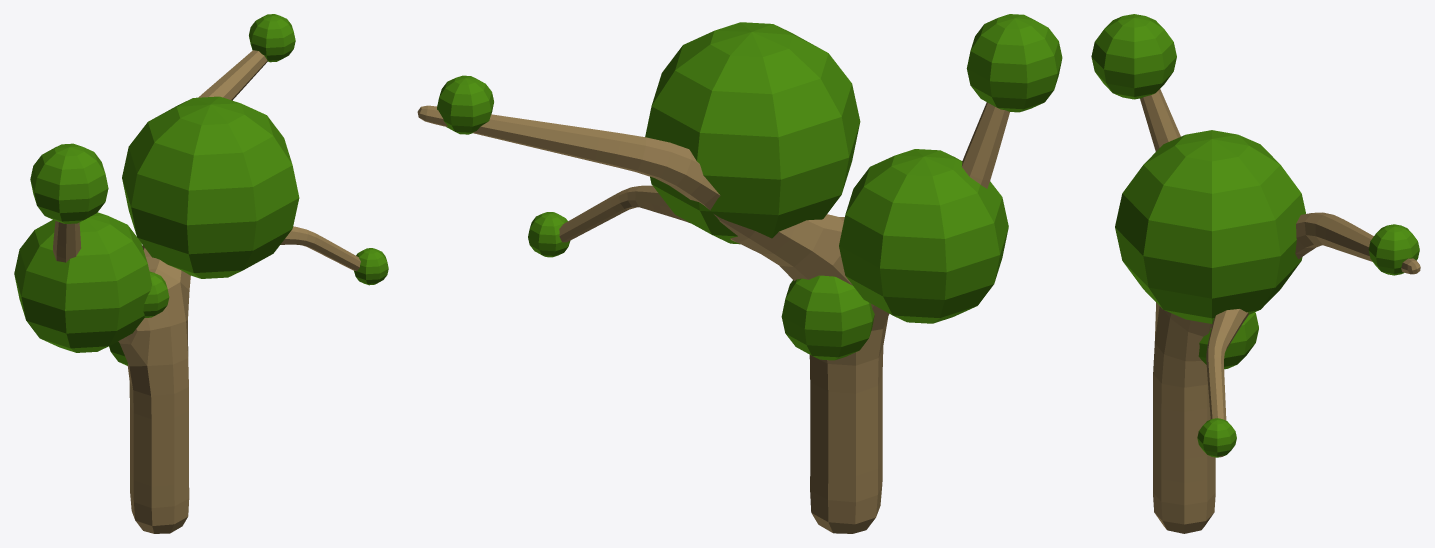
Rendered from TreeBasic1.glb.
The picture shows the model from 3 angles, left to right: view 1: azimuth 30°, elevation 25°; view 2: azimuth 150°, elevation 25°; view 3: azimuth 270°, elevation 25°; orthographic projection. The views are drawn at different scales.
Parts seen in each view (by area): view 1: Leaves.005_Arbuste, Trunk_Arbuste, Leaves.006_Arbuste, Leaves.001_Arbuste, Leaves_Arbuste, Leaves.002_Arbuste, Leaves.003_Arbuste; view 2: Leaves.005_Arbuste, Trunk_Arbuste, Leaves.006_Arbuste, Leaves.001_Arbuste, Leaves.004_Arbuste, Leaves_Arbuste, Leaves.002_Arbuste; view 3: Leaves.005_Arbuste, Trunk_Arbuste, Leaves.001_Arbuste, Leaves_Arbuste, Leaves.004_Arbuste, Leaves.002_Arbuste.
Boxes of the visible parts, box(x1,y1,x2,y2) form: Leaves.005_Arbuste: box(122, 96, 299, 278); Trunk_Arbuste: box(53, 50, 360, 533); Leaves.006_Arbuste: box(14, 212, 151, 352); Leaves.001_Arbuste: box(30, 143, 108, 223); Leaves_Arbuste: box(249, 14, 295, 62); Leaves.002_Arbuste: box(354, 248, 388, 285); Leaves.003_Arbuste: box(143, 271, 169, 317); Leaves.005_Arbuste: box(645, 22, 860, 244); Trunk_Arbuste: box(417, 102, 1009, 533); Leaves.006_Arbuste: box(839, 149, 1008, 323); Leaves.001_Arbuste: box(966, 14, 1062, 112); Leaves.004_Arbuste: box(781, 275, 874, 360); Leaves_Arbuste: box(437, 75, 493, 134); Leaves.002_Arbuste: box(528, 212, 570, 257); Leaves.005_Arbuste: box(1115, 130, 1305, 323); Trunk_Arbuste: box(1140, 89, 1420, 533); Leaves.001_Arbuste: box(1091, 14, 1176, 99); Leaves_Arbuste: box(1368, 224, 1419, 275); Leaves.004_Arbuste: box(1198, 312, 1258, 369); Leaves.002_Arbuste: box(1197, 418, 1236, 457).
Size of the model in its own units: 0.7377 by 0.7712 by 0.5077.
